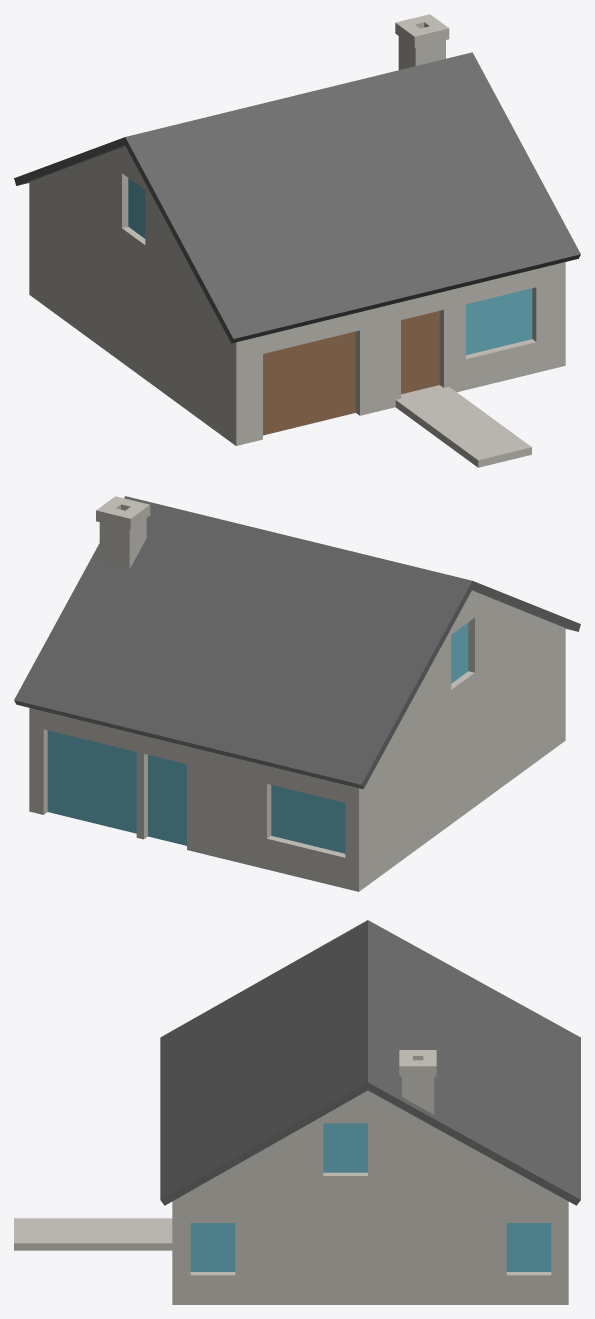
Rendered from house-small2.glb.
The picture shows the model from 3 angles, top to bottom: view 1: azimuth 30°, elevation 25°; view 2: azimuth 150°, elevation 25°; view 3: azimuth 270°, elevation 25°; orthographic projection. The views are drawn at different scales.
Visible parts, largest first — view 1: house-small.2_Cube.008; view 2: house-small.2_Cube.008; view 3: house-small.2_Cube.008.
Boxes of the visible parts, x1,y1,x2,y2 form: house-small.2_Cube.008: [14, 14, 580, 467]; house-small.2_Cube.008: [14, 496, 580, 891]; house-small.2_Cube.008: [14, 920, 580, 1304].
Size of the model in its own units: 9.7 by 6.68 by 14.31.
Materials: 1 (1 with a texture image).
